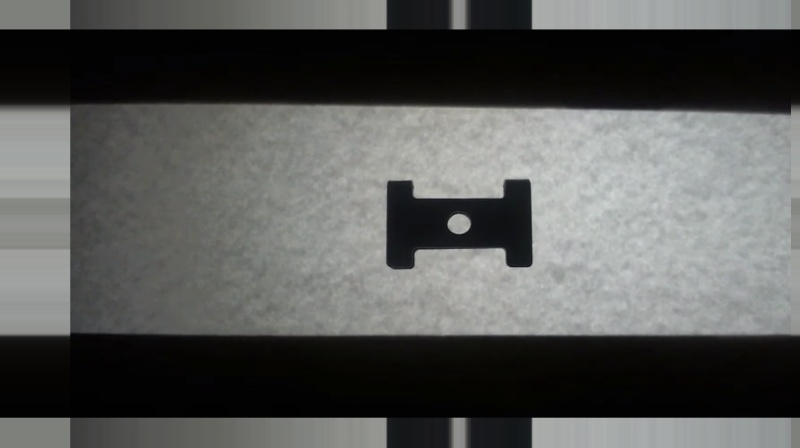O002: (382, 176, 538, 271)
